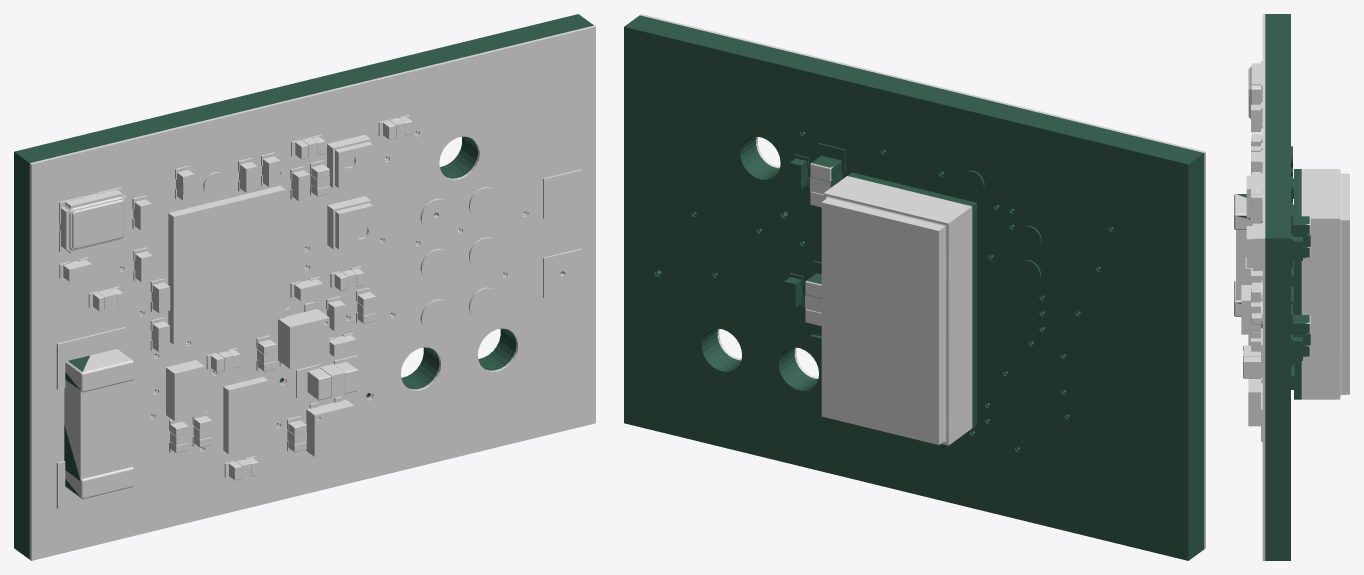
The model's file is ring-board.glb.
The picture shows the model from 3 angles, left to right: view 1: azimuth 30°, elevation 25°; view 2: azimuth 150°, elevation 25°; view 3: azimuth 270°, elevation 25°; orthographic projection. The views are drawn at different scales.
Visible parts, largest first — view 1: SenseRing / Board; view 2: SenseRing / Board; view 3: SenseRing / Board.
Part boxes in pixels (x1,y1,x2,y2): SenseRing / Board: (14,14,595,560); SenseRing / Board: (624,14,1205,560); SenseRing / Board: (1234,14,1349,560).
Size of the model in its own units: 14.9 by 10 by 3.25.
